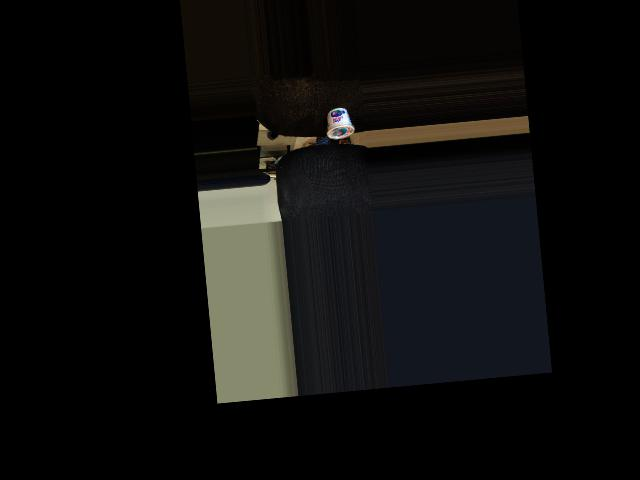cotage: (322, 105, 355, 140)
